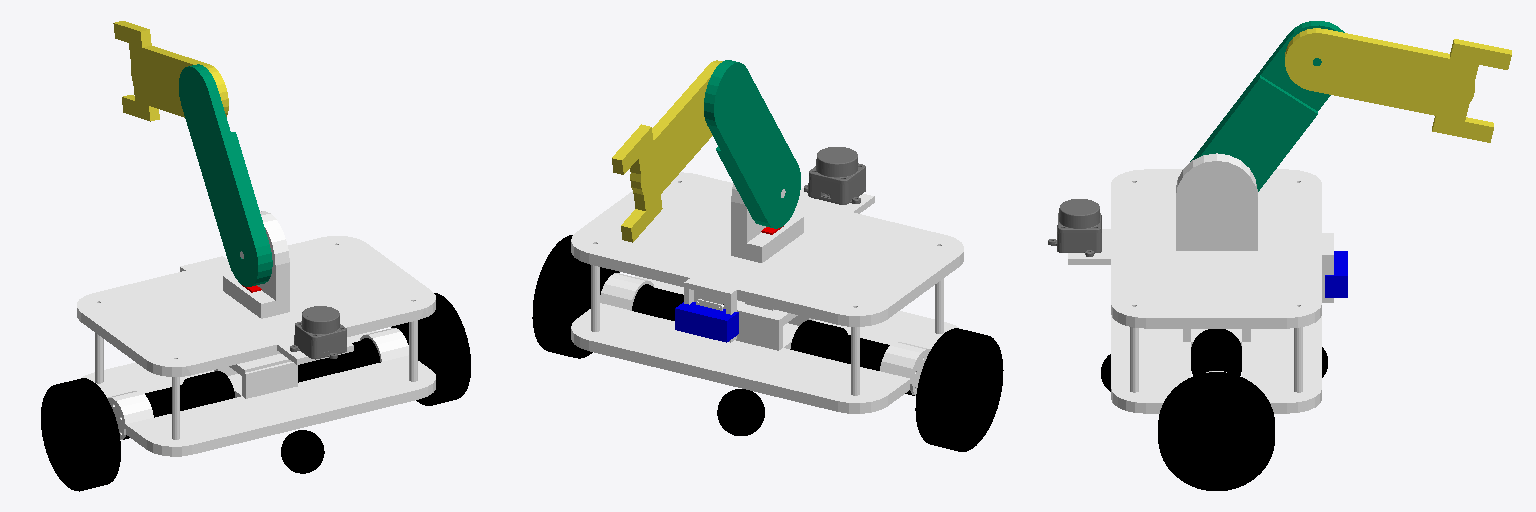
robot.urdf — Assem1:
<robot name="Assem1">

  <link name="dummy_link"/>
  <joint name="dummy_joint" type="fixed">
    <origin xyz="0 0 -0.8033" rpy="0 0 0"/> 
    <parent link="dummy_link"/>
    <child link="base_link"/>
  </joint>
  
  <link name="base_link">
    <inertial>
      <origin xyz="0.5487 -1.3806 0.05" rpy="0 0 0"/>
      <mass value="3.000"/>
      <inertia ixx="0.5" ixy="0" ixz="0" iyy="0.08" iyz="0" izz="0.05"/>
    </inertial>
    
    <visual>
      <origin xyz="0 0 0" rpy="0 0 0"/>
      <geometry>
        <mesh filename="package://Assem1/meshes/base_link.STL"/>
      </geometry>
      <material name="white"><color rgba="1 1 1 1"/></material>
    </visual>

    <collision>
      <origin xyz="0 0 0" rpy="0 0 0"/>
      <geometry>
        <mesh filename="package://Assem1/meshes/base_link.STL"/>
      </geometry>
    </collision>
  </link>

  <link name="banhtrai">
    <inertial>
      <origin xyz="-0.00002 -0.0018 -0.0433" rpy="0 0 0"/>
      <mass value="0.435"/>
      <inertia ixx="0.0003" ixy="0" ixz="0" iyy="0.0003" iyz="0" izz="0.0005"/>
    </inertial>
    <visual>
      <origin xyz="0 0 0" rpy="0 0 0"/>
      <geometry>
        <mesh filename="package://Assem1/meshes/banhtrai.STL"/>
      </geometry>
      <material name="black"><color rgba="0 0 0 1"/></material>
    </visual>
    <collision>
      <origin xyz="0 0 0" rpy="0 0 0"/>
      <geometry>
        <cylinder radius="0.049" length="0.025"/>
      </geometry>
    </collision>
  </link>

  <joint name="banhtrai_joint" type="continuous">
    <origin xyz="0.3502 -1.3803 0.8523" rpy="-1.5707 0 1.5707"/>
    <parent link="base_link"/>
    <child link="banhtrai"/>
    <axis xyz="0 0 -1"/>
  </joint>

  <gazebo reference="banhtrai">
    <mu1>0.8</mu1>
    <mu2>0.8</mu2>
    <kp>1000000.0</kp>
    <kd>100.0</kd>
    <material>Gazebo/Black</material>
  </gazebo>

  <link name="banhphai">
    <inertial>
      <origin xyz="0.00002 0.0018 -0.0433" rpy="0 0 0"/>
      <mass value="0.435"/>
      <inertia ixx="0.0003" ixy="0" ixz="0" iyy="0.0003" iyz="0" izz="0.0005"/>
    </inertial>
    <visual>
      <origin xyz="0 0 0" rpy="0 0 0"/>
      <geometry>
        <mesh filename="package://Assem1/meshes/banhphai.STL"/>
      </geometry>
      <material name="black"><color rgba="0 0 0 1"/></material>
    </visual>
    <collision>
      <origin xyz="0 0 0" rpy="0 0 0"/>
      <geometry>
        <cylinder radius="0.049" length="0.025"/>
      </geometry>
    </collision>
  </link>

  <joint name="banhphai_joint" type="continuous">
    <origin xyz="0.7457 -1.3803 0.8523" rpy="1.5707 0 1.5707"/>
    <parent link="base_link"/>
    <child link="banhphai"/>
    <axis xyz="0 0 1"/>
  </joint>

  <gazebo reference="banhphai">
    <mu1>0.8</mu1>
    <mu2>0.8</mu2>
    <kp>1000000.0</kp>
    <kd>100.0</kd>
    <material>Gazebo/Black</material>
  </gazebo>

  <link name="caster_wheel">
    <visual>
      <geometry>
        <sphere radius="0.02"/>
      </geometry>
      <material name="black"><color rgba="0 0 0 1"/></material>
    </visual>
    <collision>
      <geometry>
        <sphere radius="0.02"/>
      </geometry>
    </collision>
    <inertial>
      <mass value="0.1"/>
      <inertia ixx="0.0001" ixy="0" ixz="0" iyy="0.0001" iyz="0" izz="0.0001"/>
    </inertial>
  </link>

  <joint name="caster_joint" type="fixed">
    <origin xyz="0.5515 -1.4593 0.8233" rpy="0 0 0"/> 
    <parent link="base_link"/>
    <child link="caster_wheel"/>
  </joint>

  <gazebo reference="caster_wheel">
    <mu1>0.0</mu1>
    <mu2>0.0</mu2>
    <kp>1000000.0</kp>
    <kd>100.0</kd>
    <material>Gazebo/Black</material>
  </gazebo>

  <link name="caster_wheel_front">
    <visual>
      <geometry><sphere radius="0.02"/></geometry>
      <material name="black"><color rgba="0 0 0 1"/></material>
    </visual>
    <collision>
      <geometry><sphere radius="0.02"/></geometry>
    </collision>
    <inertial>
      <mass value="0.1"/>
      <inertia ixx="0.0001" ixy="0" ixz="0" iyy="0.0001" iyz="0" izz="0.0001"/>
    </inertial>
  </link>

  <joint name="caster_joint_front" type="fixed">
    <origin xyz="0.5303 -1.305 0.8233" rpy="0 0 0"/> 
    <parent link="base_link"/>
    <child link="caster_wheel_front"/>
  </joint>

  <gazebo reference="caster_wheel_front">
    <mu1>0.0</mu1>
    <mu2>0.0</mu2>
    <kp>1000000.0</kp>
    <kd>100.0</kd>
    <material>Gazebo/Black</material>
  </gazebo>

  <link name="lidar">
    <inertial>
      <origin xyz="0.0234 -0.0086 0.0114" rpy="0 0 0"/>
      <mass value="0.1"/>
      <inertia ixx="0.01" ixy="0" ixz="0" iyy="0.01" iyz="0" izz="0.01"/>
    </inertial>
    <visual>
      <origin xyz="0 0 0" rpy="0 0 0"/>
      <geometry>
        <mesh filename="package://Assem1/meshes/lidar.STL"/>
      </geometry>
      <material name="grey"><color rgba="0.5 0.5 0.5 1"/></material>
    </visual>
    <collision>
      <origin xyz="0 0 0" rpy="0 0 0"/>
      <geometry>
        <mesh filename="package://Assem1/meshes/lidar.STL"/>
      </geometry>
    </collision>
  </link>

  <joint name="lidar_joint" type="fixed">
    <origin xyz="0.5253 -1.4886 0.9433" rpy="0 0 0"/>
    <parent link="base_link"/>
    <child link="lidar"/>
  </joint>

  <link name="imu_link">
    <inertial>
      <mass value="0.01"/>
      <origin xyz="0 0 0" rpy="0 0 0"/>
      <inertia ixx="0.0001" ixy="0" ixz="0" iyy="0.0001" iyz="0" izz="0.0001"/>
    </inertial>
    <visual>
      <origin xyz="0 0 0" rpy="0 0 0"/>
      <geometry>
        <box size="0.02 0.02 0.02"/>
      </geometry>
      <material name="red"><color rgba="1 0 0 1"/></material>
    </visual>
  </link>

  <joint name="imu_joint" type="fixed">
    <origin xyz="0.548 -1.38 0.95" rpy="0 0 0"/>
    <parent link="base_link"/>
    <child link="imu_link"/>
  </joint>

  <link name="camera_link">
    <visual>
      <origin xyz="0 0 0" rpy="0 0 0"/>
      <geometry>
        <box size="0.02 0.05 0.02"/>
      </geometry>
      <material name="blue"><color rgba="0 0 1 1"/></material>
    </visual>
    <collision>
      <origin xyz="0 0 0" rpy="0 0 0"/>
      <geometry>
        <box size="0.02 0.05 0.02"/>
      </geometry>
    </collision>
    <inertial>
      <mass value="0.05"/>
      <origin xyz="0 0 0" rpy="0 0 0"/>
      <inertia ixx="0.00001" ixy="0" ixz="0" iyy="0.00001" iyz="0" izz="0.00001"/>
    </inertial>
  </link>

  <joint name="camera_joint" type="fixed">
    <origin xyz="0.5476 -1.2781 0.9141" rpy="0 0 1.5708"/>
    <parent link="base_link"/>
    <child link="camera_link"/>
  </joint>

  <link name="camera_link_optical"></link>
  
  <joint name="camera_optical_joint" type="fixed">
    <origin xyz="0 0 0" rpy="-1.5708 0 -1.5708"/>
    <parent link="camera_link"/>
    <child link="camera_link_optical"/>
  </joint>

  <link name="khau1">
    <inertial>
      <origin xyz="0.0384 0.0553 0.0069" rpy="0 0 0"/>
      <mass value="0.223"/>
      <inertia ixx="0.01" ixy="0" ixz="0" iyy="0.01" iyz="0" izz="0.01"/>
    </inertial>
    <visual>
      <origin xyz="0 0 0" rpy="0 0 0"/>
      <geometry>
        <mesh filename="package://Assem1/meshes/khau1.STL"/>
      </geometry>
    </visual>
    <collision>
      <origin xyz="0 0 0" rpy="0 0 0"/>
      <geometry>
        <mesh filename="package://Assem1/meshes/khau1.STL"/>
      </geometry>
    </collision>
  </link>

  <joint name="khau1_joint" type="revolute">
    <origin xyz="0.5332 -1.3803 0.9933" rpy="1.5708 0 1.5708"/>
    <parent link="base_link"/>
    <child link="khau1"/>
    <axis xyz="0 0 1"/>
    <limit lower="-1.57" upper="1.57" effort="100" velocity="100"/>
    <dynamics damping="0.7" friction="1.0"/>
  </joint>

  <link name="khau2">
    <inertial>
      <origin xyz="0.0674 -0.0149 -0.005" rpy="0 0 0"/>
      <mass value="0.143"/>
      <inertia ixx="0.01" ixy="0" ixz="0" iyy="0.01" iyz="0" izz="0.01"/>
    </inertial>
    <visual>
      <origin xyz="0 0 0" rpy="0 0 0"/>
      <geometry>
        <mesh filename="package://Assem1/meshes/khau2.STL"/>
      </geometry>
    </visual>
    <collision>
      <origin xyz="0 0 0" rpy="0 0 0"/>
      <geometry>
        <mesh filename="package://Assem1/meshes/khau2.STL"/>
      </geometry>
    </collision>
  </link>

  <joint name="khau2_joint" type="revolute">
    <origin xyz="0.0856 0.1231 0.0199" rpy="0 0 0"/>
    <parent link="khau1"/>
    <child link="khau2"/>
    <axis xyz="0 0 1"/>
    <limit lower="-3.14" upper="3.14" effort="100" velocity="100"/>
    <dynamics damping="0.7" friction="1.0"/>
  </joint>

  <ros2_control name="GazeboSystem" type="system">
    <hardware>
      <plugin>gazebo_ros2_control/GazeboSystem</plugin>
    </hardware>

    <joint name="khau1_joint">
      <command_interface name="position">
        <param name="min">-1.57</param>
        <param name="max">1.57</param>
      </command_interface>
      <state_interface name="position"/>
      <state_interface name="velocity"/>
      <state_interface name="effort"/>
    </joint>

    <joint name="khau2_joint">
      <command_interface name="position">
        <param name="min">-3.14</param>
        <param name="max">3.14</param>
      </command_interface>
      <state_interface name="position"/>
      <state_interface name="velocity"/>
      <state_interface name="effort"/>
    </joint>
  </ros2_control>

  <gazebo>
    <plugin name="gazebo_ros2_control" filename="libgazebo_ros2_control.so">
      <parameters>/home/nghia/ros2_ws/src/Assem1/config/controllers.yaml</parameters>
    </plugin>
  </gazebo>
  
  <gazebo reference="base_link">
    <material>Gazebo/White</material>
    <self_collide>true</self_collide>
  </gazebo>
  
  <gazebo reference="banhtrai">
    <material>Gazebo/Black</material>
  </gazebo>
  
  <gazebo reference="banhphai">
    <material>Gazebo/Black</material>
  </gazebo>
  
  <gazebo reference="lidar">
    <material>Gazebo/Red</material>
  </gazebo>

  <gazebo reference="khau1">
    <self_collide>true</self_collide>
  </gazebo>

  <gazebo reference="khau2">
    <self_collide>true</self_collide>
  </gazebo>

  <gazebo>
    <plugin name="diff_drive" filename="libgazebo_ros_diff_drive.so">
      <left_joint>banhphai_joint</left_joint>
      <right_joint>banhtrai_joint</right_joint>
      <wheel_separation>0.3955</wheel_separation> 
      <wheel_diameter>0.10</wheel_diameter> 
      <max_wheel_torque>5.0</max_wheel_torque>
      <max_wheel_acceleration>0.5</max_wheel_acceleration>

      <publish_odom>true</publish_odom>
      <publish_odom_tf>true</publish_odom_tf>
      <publish_wheel_tf>true</publish_wheel_tf>
      <odometry_frame>odom</odometry_frame>
      <robot_base_frame>dummy_link</robot_base_frame>
    </plugin>
  </gazebo>

  <gazebo reference="imu_link">
    <gravity>true</gravity>
    <sensor name="imu_sensor" type="imu">
      <always_on>true</always_on>
      <update_rate>100</update_rate>
      <visualize>true</visualize>

      <plugin filename="libgazebo_ros_imu_sensor.so" name="imu_plugin">
        <ros>
          <remapping>~/out:=imu/data</remapping>
        </ros>
        <frame_name>imu_link</frame_name>
        <initial_orientation_as_reference>false</initial_orientation_as_reference>
      </plugin>
      <pose>0 0 0 0 0 0</pose>
    </sensor>
  </gazebo>

  <gazebo reference="lidar">
    <sensor name="lidar_sensor" type="ray">
      <always_on>true</always_on>
      <visualize>true</visualize> 
      <update_rate>10</update_rate>
      
      <ray>
        <scan>
          <horizontal>
            <samples>360</samples>
            <resolution>1.0</resolution>
            <min_angle>-3.14159</min_angle>
            <max_angle>3.14159</max_angle>
          </horizontal>
        </scan>
        <range>
          <min>0.15</min> 
          <max>8.0</max>
          <resolution>0.015</resolution>
        </range>
        <noise>
          <type>gaussian</type>
          <mean>0.0</mean>
          <stddev>0.01</stddev> 
        </noise>
      </ray>

      <plugin name="lidar_plugin" filename="libgazebo_ros_ray_sensor.so">
        <ros>
          <remapping>~/out:=scan</remapping>
        </ros>
        <output_type>sensor_msgs/LaserScan</output_type>
        <frame_name>lidar</frame_name>
      </plugin>
    </sensor>
  </gazebo>

  <gazebo reference="camera_link">
    <material>Gazebo/Blue</material>
    <sensor type="camera" name="front_camera">
      <always_on>true</always_on>
      <update_rate>30.0</update_rate>
      <visualize>true</visualize>
      
      <camera name="head">
        <horizontal_fov>1.3962634</horizontal_fov>
        <image>
          <width>640</width>
          <height>480</height>
          <format>R8G8B8</format>
        </image>
        <clip>
          <near>0.02</near>
          <far>300</far>
        </clip>
        <noise>
          <type>gaussian</type>
          <mean>0.0</mean>
          <stddev>0.007</stddev>
        </noise>
      </camera>
      
      <plugin name="camera_controller" filename="libgazebo_ros_camera.so">
        <ros>
          <remapping>~/image_raw:=image_raw</remapping>
          <remapping>~/camera_info:=camera_info</remapping>
        </ros>
        <camera_name>front_camera</camera_name>
        <frame_name>camera_link_optical</frame_name>
        <hack_baseline>0.07</hack_baseline>
      </plugin>
    </sensor>
  </gazebo>
  
  <gazebo>
    <plugin name="gazebo_ros_joint_state_publisher" filename="libgazebo_ros_joint_state_publisher.so">
      <update_rate>30</update_rate>
      <joint_name>khau1_joint</joint_name>
      <joint_name>khau2_joint</joint_name>
    </plugin>
  </gazebo>
</robot>

--- Render facts (derived) ---
The picture shows the robot from 3 angles, left to right: view 1: azimuth 30°, elevation 25°; view 2: azimuth 150°, elevation 25°; view 3: azimuth 270°, elevation 25°; orthographic projection.
Robot: Assem1 — 12 links, 11 joints (2 revolute, 2 continuous, 7 fixed); root link dummy_link; default pose: every joint at zero.
Visible links, largest first — view 1: base_link, khau1, banhtrai, banhphai, khau2, lidar, caster_wheel; view 2: base_link, banhtrai, khau1, khau2, banhphai, lidar, camera_link, caster_wheel_front; view 3: base_link, khau2, banhphai, khau1, lidar, camera_link.
Link boxes in pixels (x1=…): base_link: x1=77, y1=211, x2=435, y2=456; khau1: x1=179, y1=64, x2=272, y2=286; banhtrai: x1=41, y1=371, x2=234, y2=491; banhphai: x1=298, y1=293, x2=470, y2=405; khau2: x1=113, y1=21, x2=228, y2=121; lidar: x1=290, y1=306, x2=346, y2=359; caster_wheel: x1=281, y1=430, x2=324, y2=473; base_link: x1=571, y1=172, x2=963, y2=413; banhtrai: x1=790, y1=320, x2=1003, y2=451; khau1: x1=704, y1=60, x2=800, y2=228; khau2: x1=612, y1=60, x2=722, y2=242; banhphai: x1=532, y1=235, x2=723, y2=358; lidar: x1=804, y1=147, x2=865, y2=204; camera_link: x1=675, y1=302, x2=738, y2=342; caster_wheel_front: x1=717, y1=389, x2=764, y2=435; base_link: x1=1068, y1=153, x2=1333, y2=413; khau2: x1=1285, y1=28, x2=1511, y2=142; banhphai: x1=1158, y1=329, x2=1274, y2=490; khau1: x1=1190, y1=21, x2=1344, y2=191; lidar: x1=1048, y1=199, x2=1101, y2=256; camera_link: x1=1325, y1=251, x2=1347, y2=297.
Size in the robot's own frame: 0.3955 by 0.3956 by 0.344 metres.
6 mesh visuals loaded from 6 distinct referenced files (6 binary STL).
